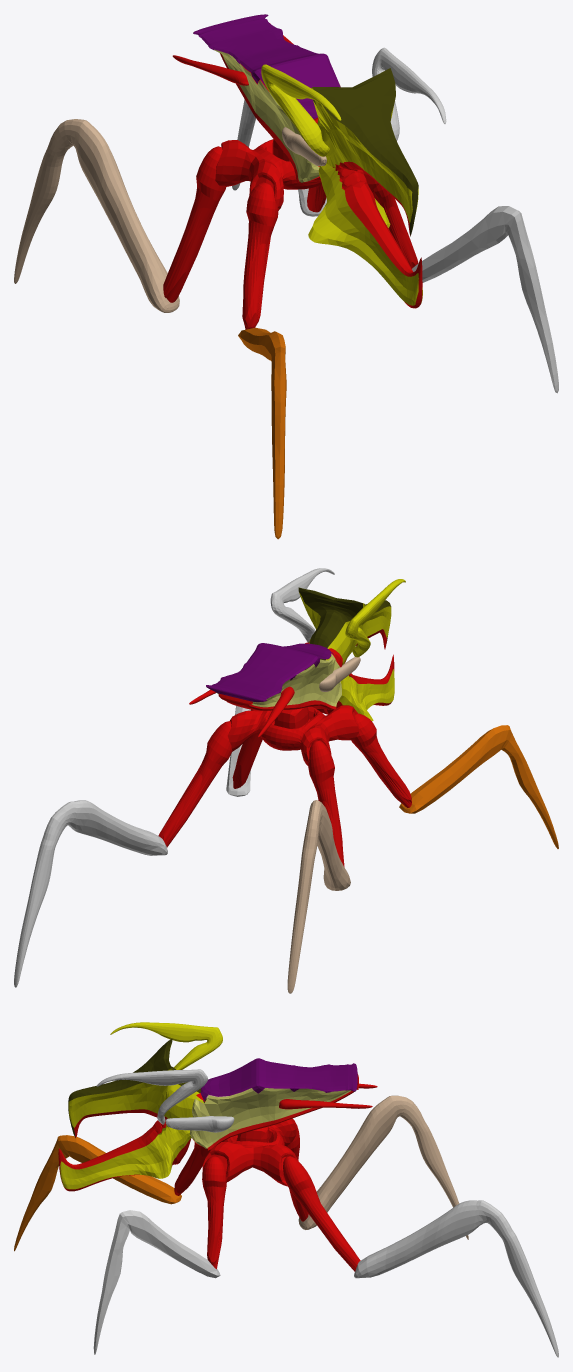
File: aracnido_000013.obj
3 renders of one model, top to bottom at view 1: azimuth 30°, elevation 25°; view 2: azimuth 150°, elevation 25°; view 3: azimuth 270°, elevation 25°, orthographic. The views are drawn at different scales.
Parts seen in each view (by area): view 1: ARAK-BODY-; view 2: ARAK-BODY-; view 3: ARAK-BODY-.
Part boxes in pixels (<box>): ARAK-BODY-: <box>14,14,558,539</box>; ARAK-BODY-: <box>14,568,558,993</box>; ARAK-BODY-: <box>14,1022,558,1357</box>.
Size of the model in its own units: 2.64 by 2.68 by 4.83.
